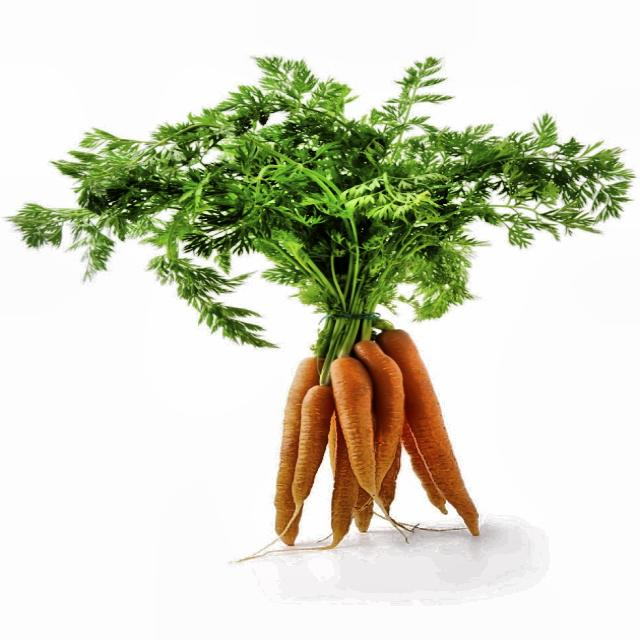carrot: (28, 55, 607, 603)
